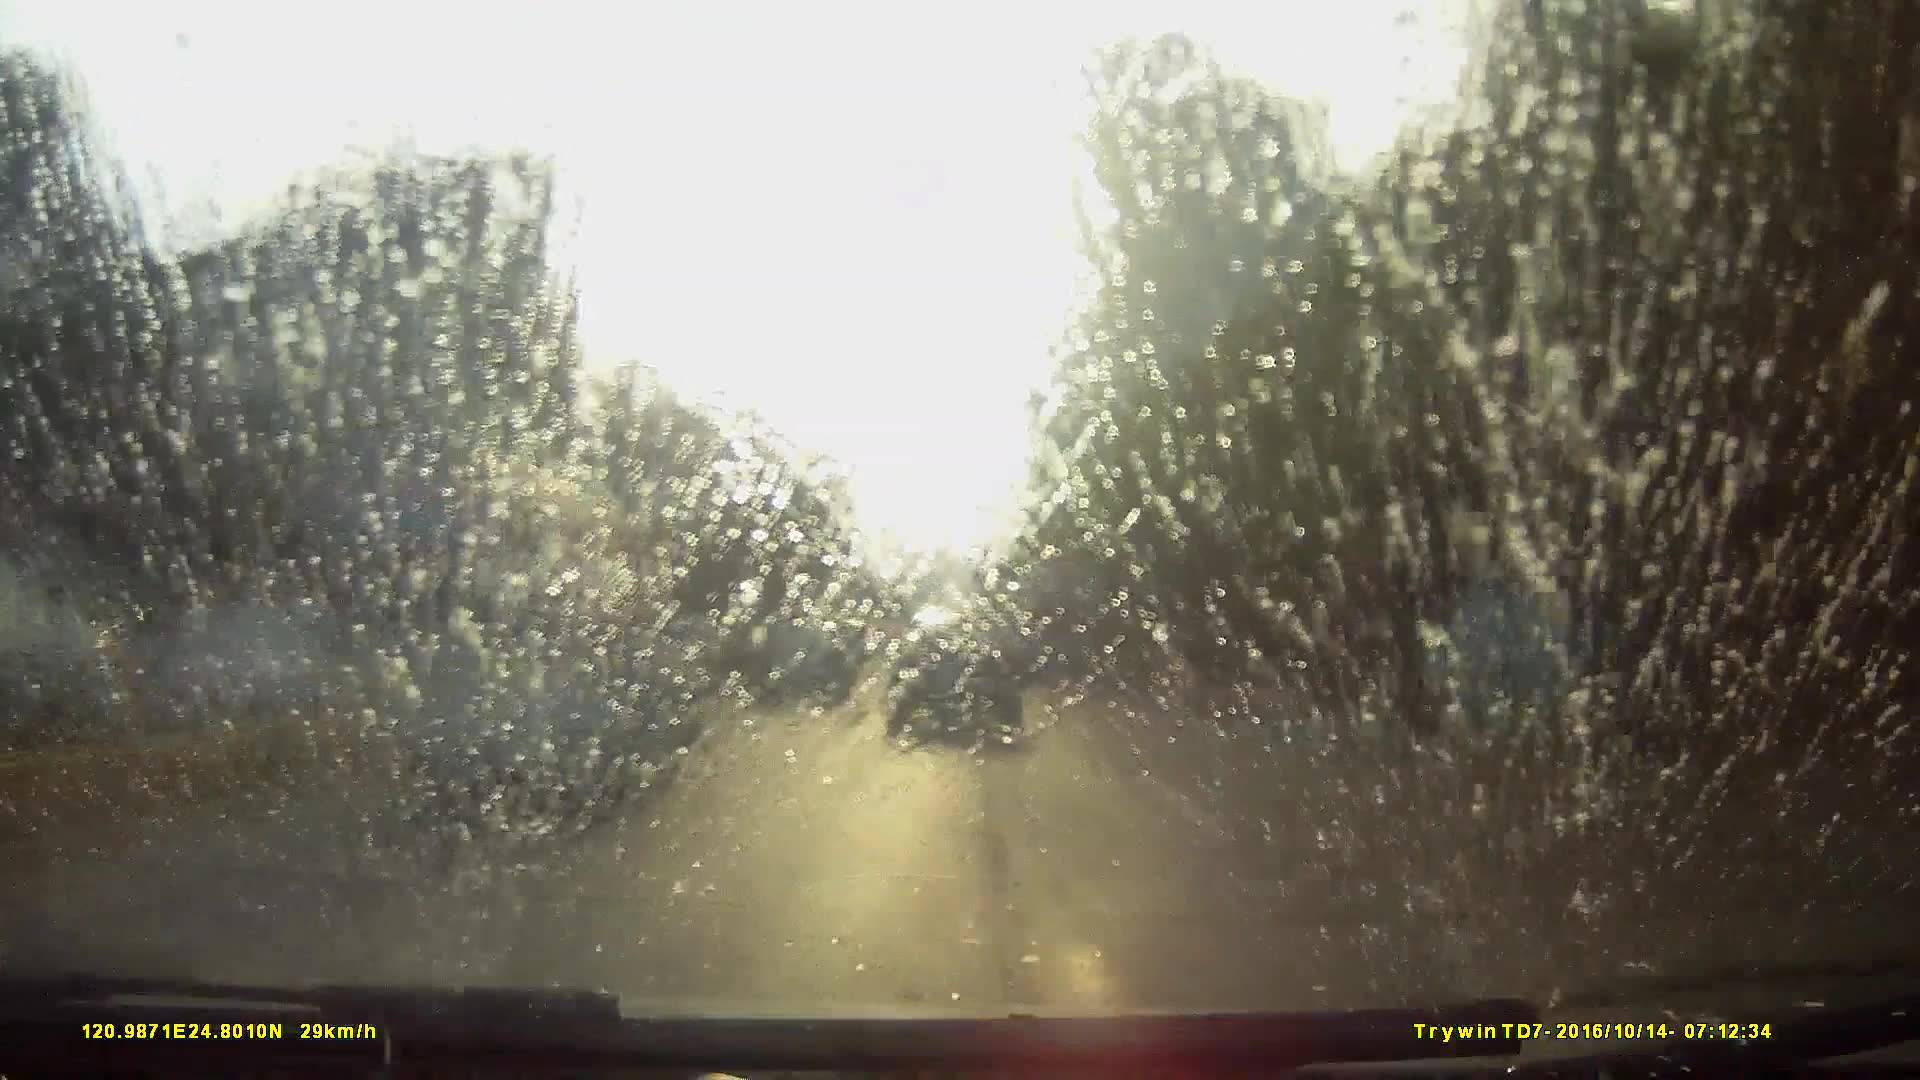vehicle: (251, 556, 684, 868), (243, 431, 659, 728), (400, 560, 705, 793), (887, 605, 1022, 741), (1004, 563, 1108, 688), (742, 622, 851, 708), (866, 638, 915, 687)
